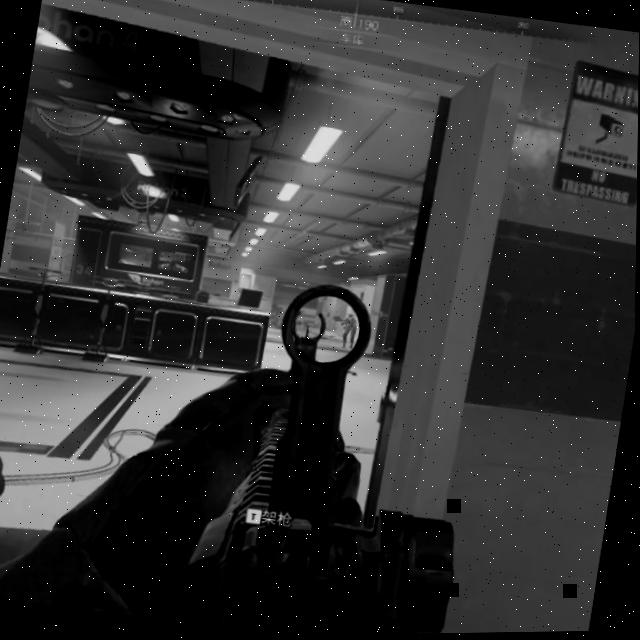MW2_body: (339, 314, 360, 351)
